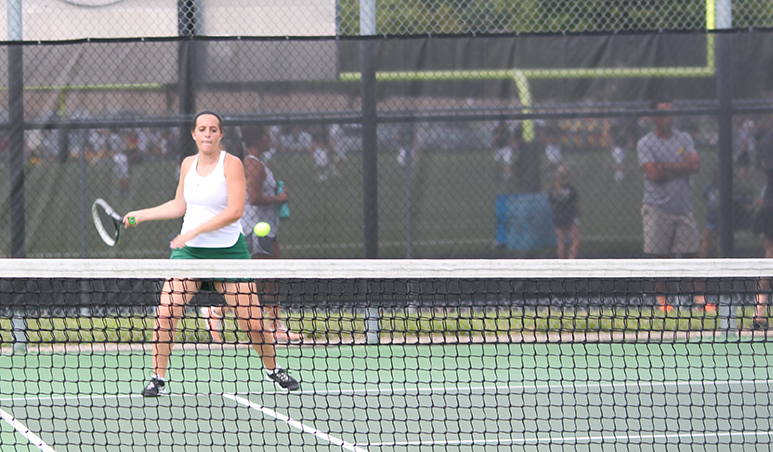tennis ball: (253, 220, 273, 238)
tennis player: (123, 110, 302, 398)
